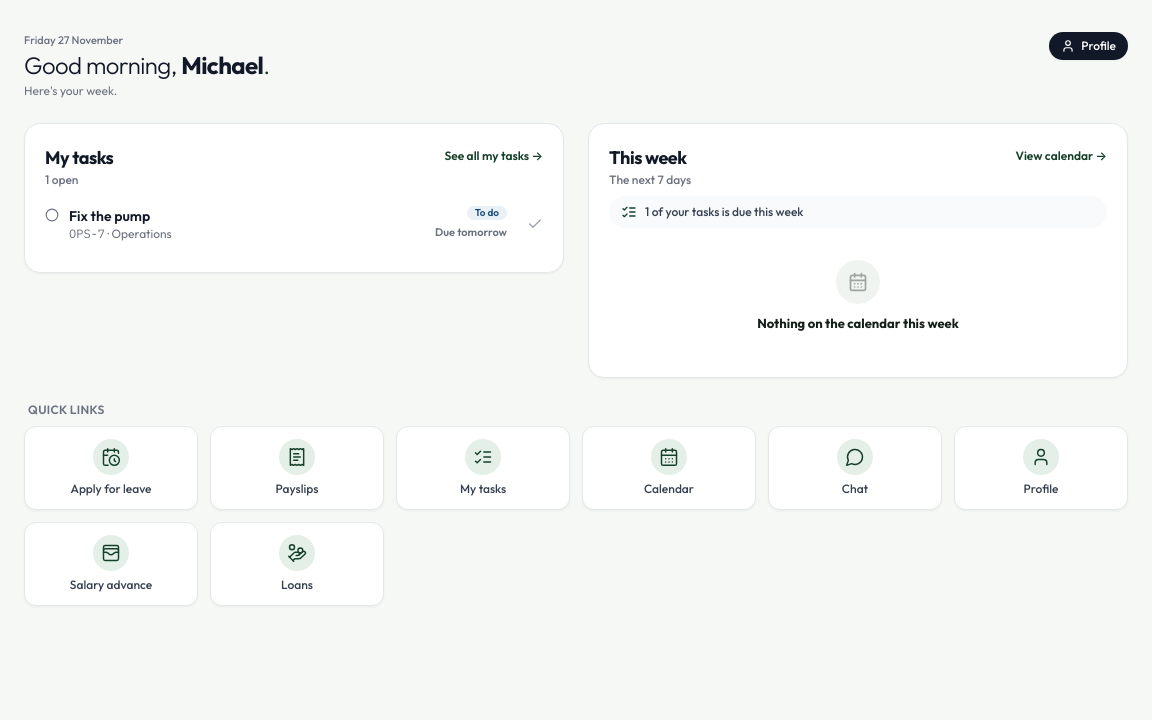
Test: StaffHome › marks a task done from the home
What coordinates should you click on to do the following:
click the button named "Mark OPS-7 done"
I would click on:
 (535, 224)
Its box is left=519, top=208, right=551, bottom=240.
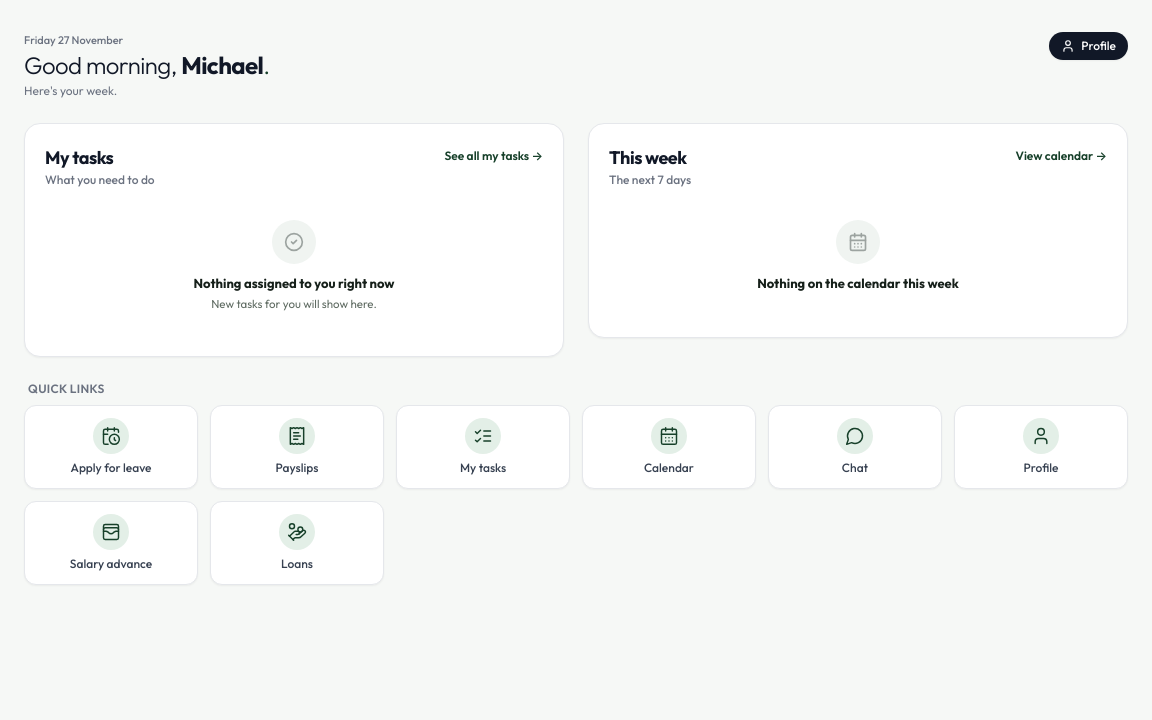
Result: the text "Nothing assigned to you right now" is shown at left=194, top=274, right=395, bottom=293
